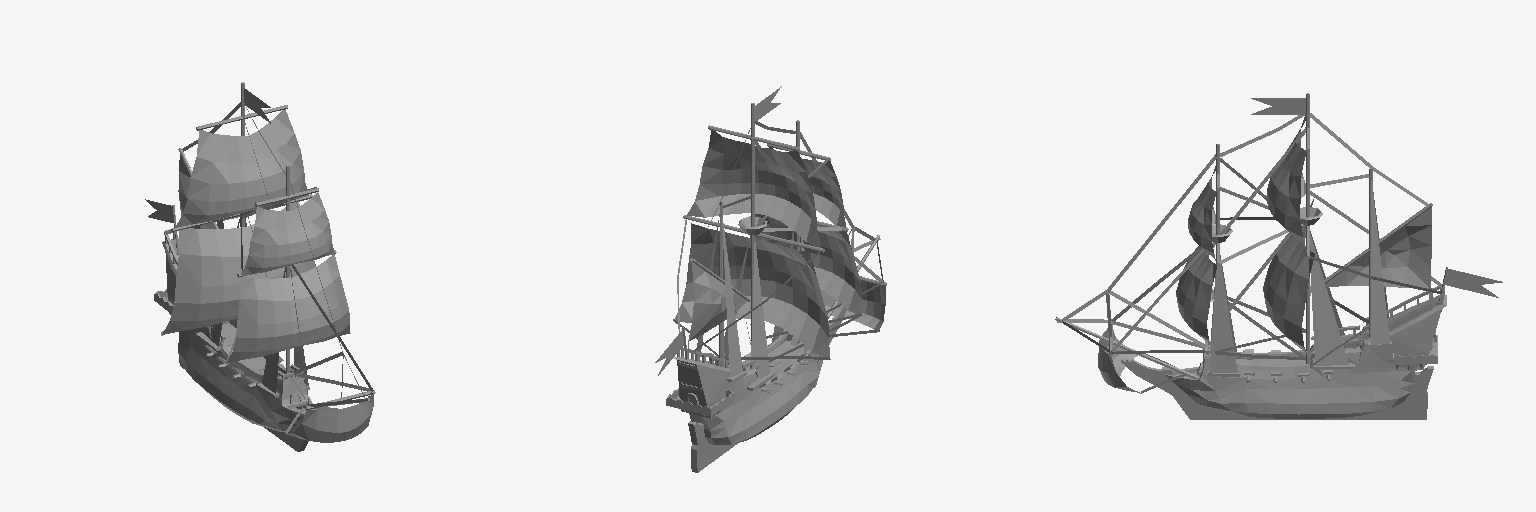
Rendered from cartoon-fluyt.obj.
3 renders of one model, left to right at view 1: azimuth 30°, elevation 25°; view 2: azimuth 150°, elevation 25°; view 3: azimuth 270°, elevation 25°, orthographic.
Parts seen in each view (by area): view 1: cartoon_fluyt_sails, cartoon_fluyt_body, cartoon_fluyt_ropes; view 2: cartoon_fluyt_sails, cartoon_fluyt_body, cartoon_fluyt_ropes; view 3: cartoon_fluyt_body, cartoon_fluyt_sails, cartoon_fluyt_ropes.
Part boxes in pixels (left/top/right/bottom): cartoon_fluyt_sails: left=145, top=88, right=373, bottom=442; cartoon_fluyt_body: left=154, top=82, right=375, bottom=451; cartoon_fluyt_ropes: left=161, top=101, right=373, bottom=433; cartoon_fluyt_sails: left=655, top=86, right=885, bottom=375; cartoon_fluyt_body: left=666, top=103, right=886, bottom=472; cartoon_fluyt_ropes: left=673, top=121, right=883, bottom=384; cartoon_fluyt_body: left=1055, top=93, right=1447, bottom=419; cartoon_fluyt_sails: left=1098, top=98, right=1502, bottom=392; cartoon_fluyt_ropes: left=1057, top=113, right=1444, bottom=393.
Bounding box in the file's own units: 13.61 × 26.91 × 33.71.